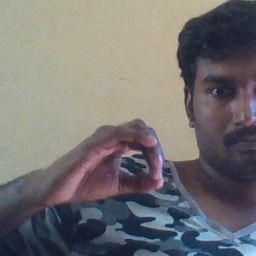O: (39, 117, 170, 212)
